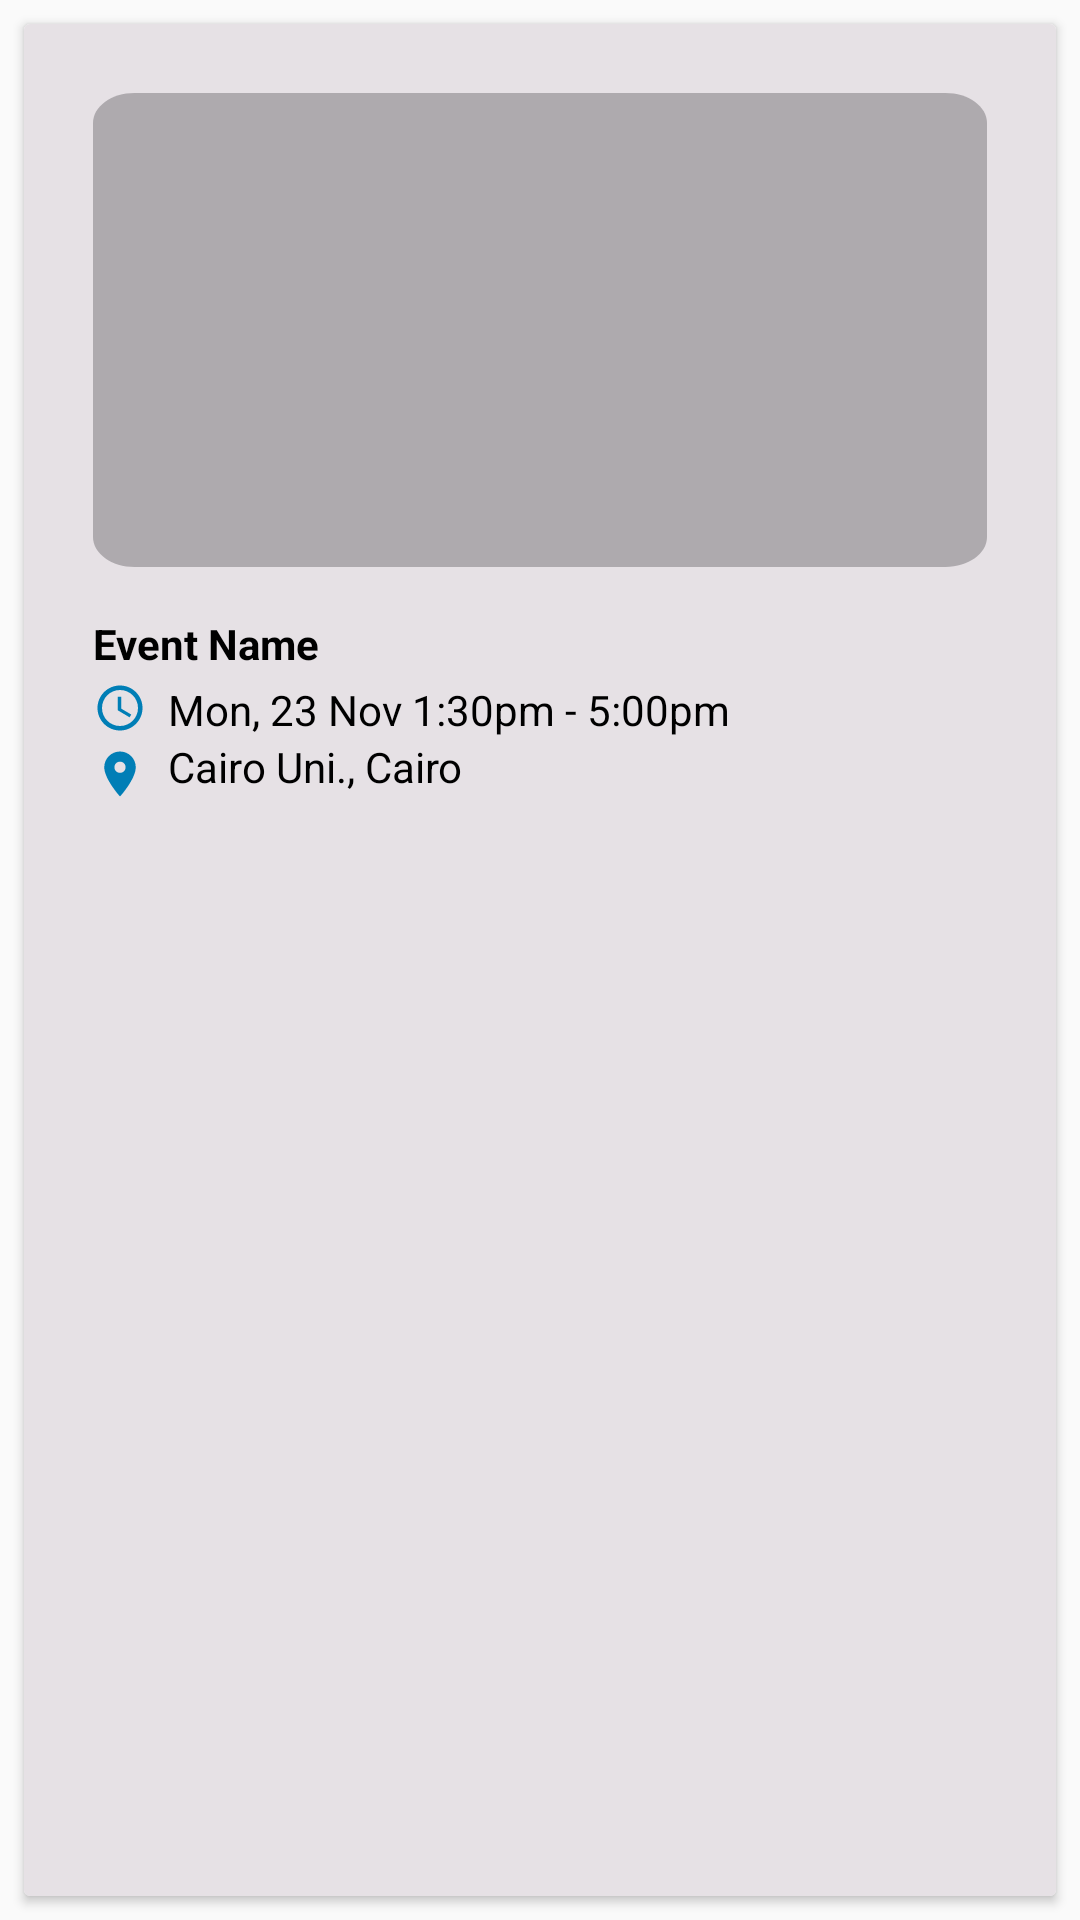

Point at icon controls on the screen. Image size 1080w x 1920h, points as (x,y).
access time: (120,708)
location on: (120,773)
